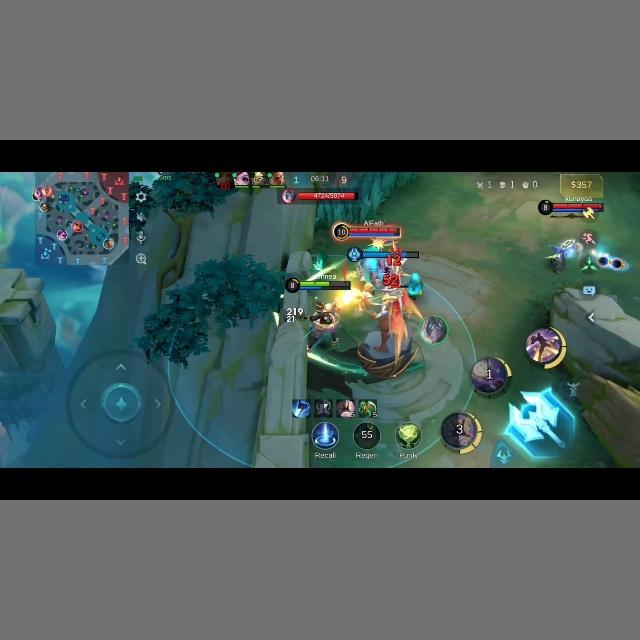hp_enemy: (329, 220, 401, 240), (538, 200, 606, 217), (296, 189, 356, 200)
hp_self: (282, 277, 350, 292)
turret_ally: (358, 286, 425, 381)
